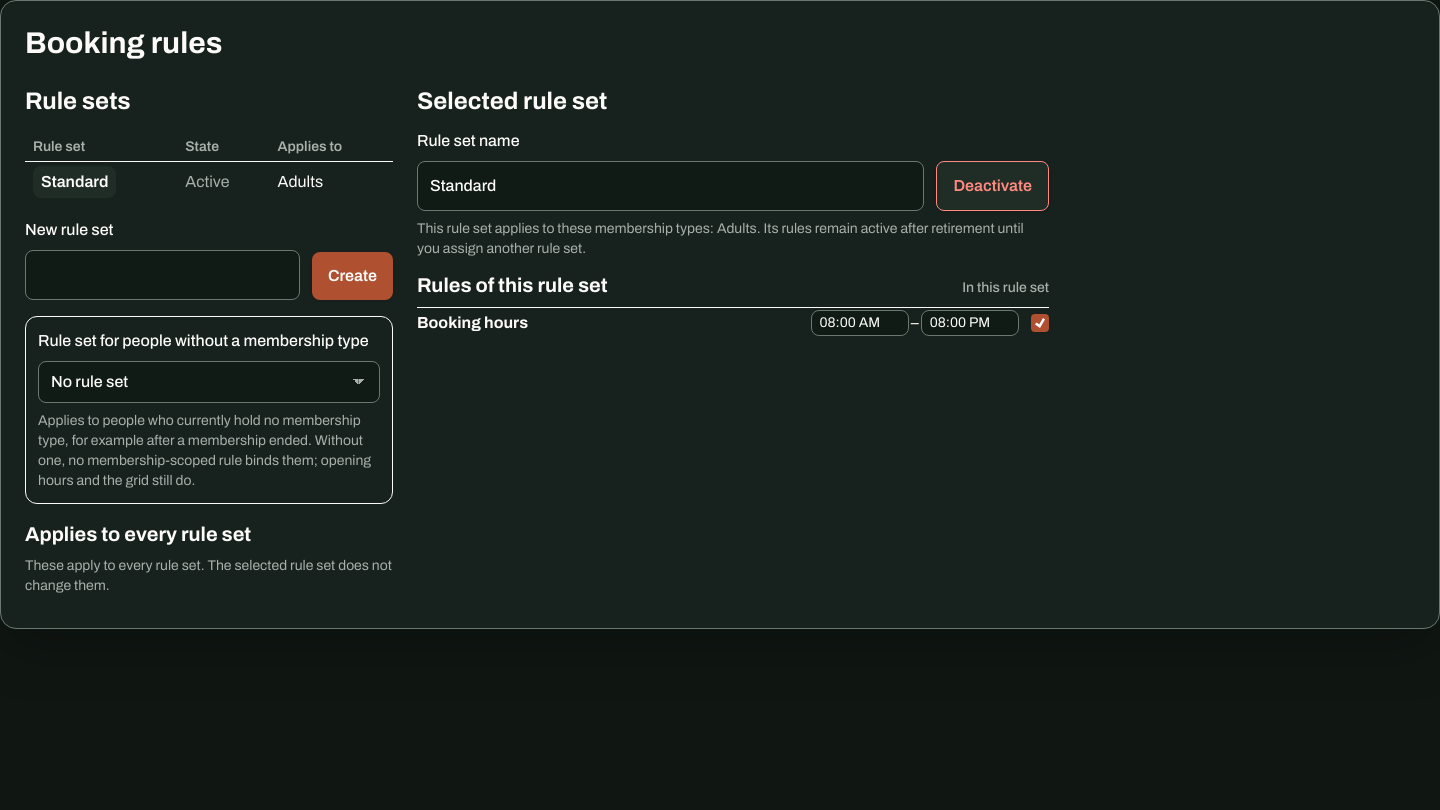
Test: AdminRuleSetsView › given a window bound typed so it cannot be read, when the rules are saved, then nothing is written and the bound names the expected format
Expected: the field with test id "rule-BOOKING_HOURS-latestEnd" is enabled, [921,310,1019,336]
Replace the text in the field with test id "rule-BOOKING_HOURS-earliestStart" with "9:00 AM" at (860,323), box [810,310,909,336]
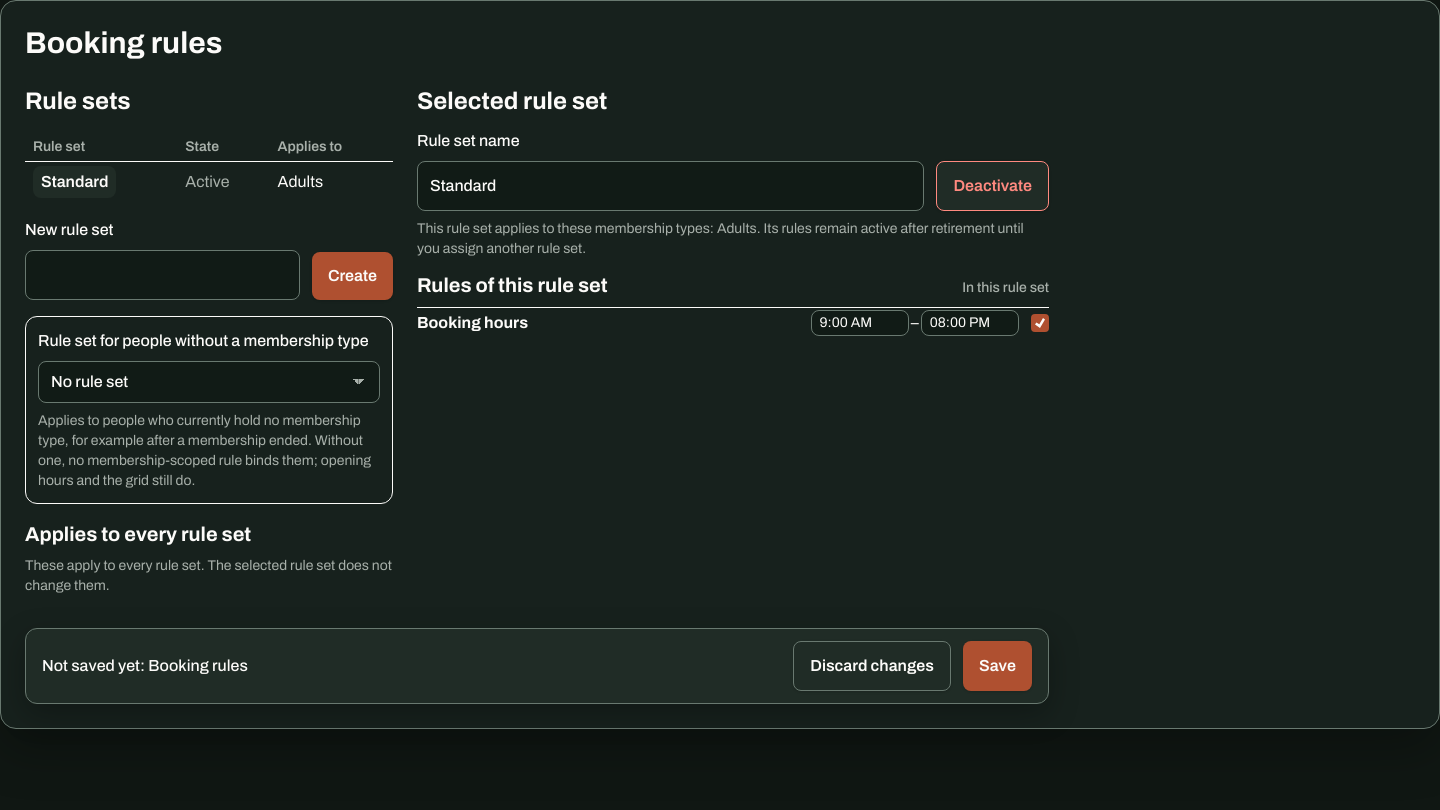
Replace the text in the field with test id "rule-BOOKING_HOURS-latestEnd" with "8 PM" at (970,323), box [921,310,1019,336]
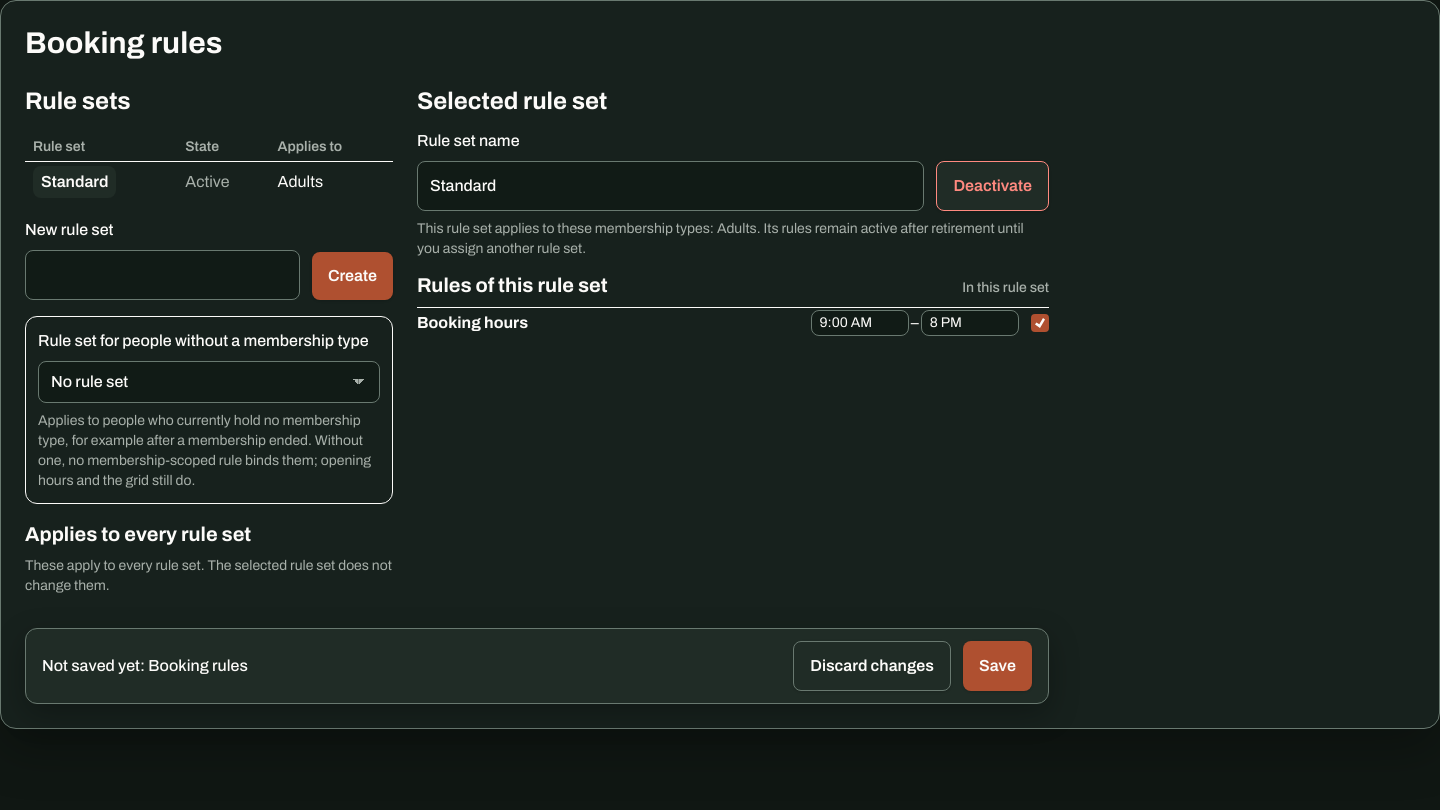
Click the button with test id "save-booking-rules" at (998,666), box [963,641,1032,691]
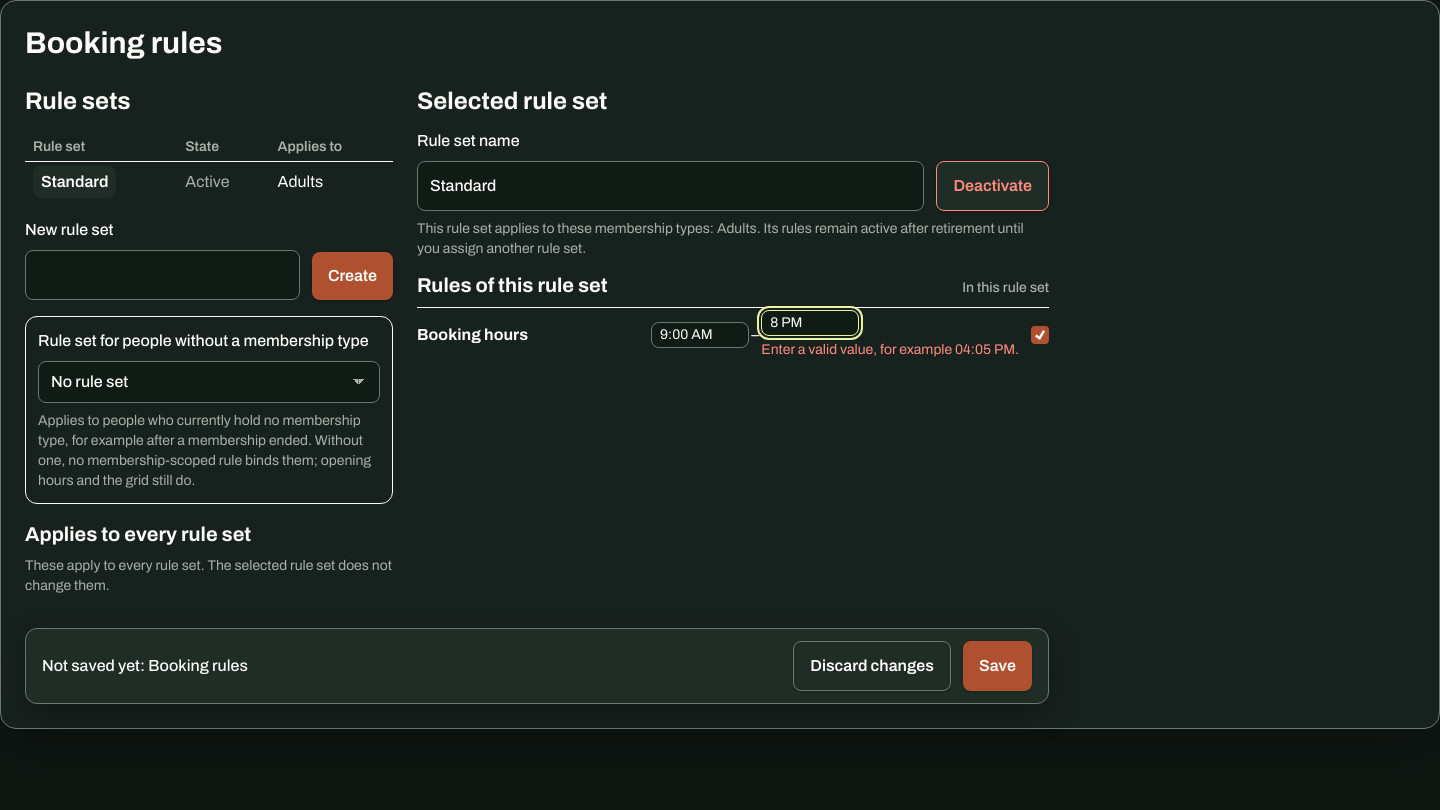
Expected: the text with test id "rule-BOOKING_HOURS-latestEnd-invalid" reads "Enter a valid value, for example 04:05 PM.", [761,342,1019,357]
